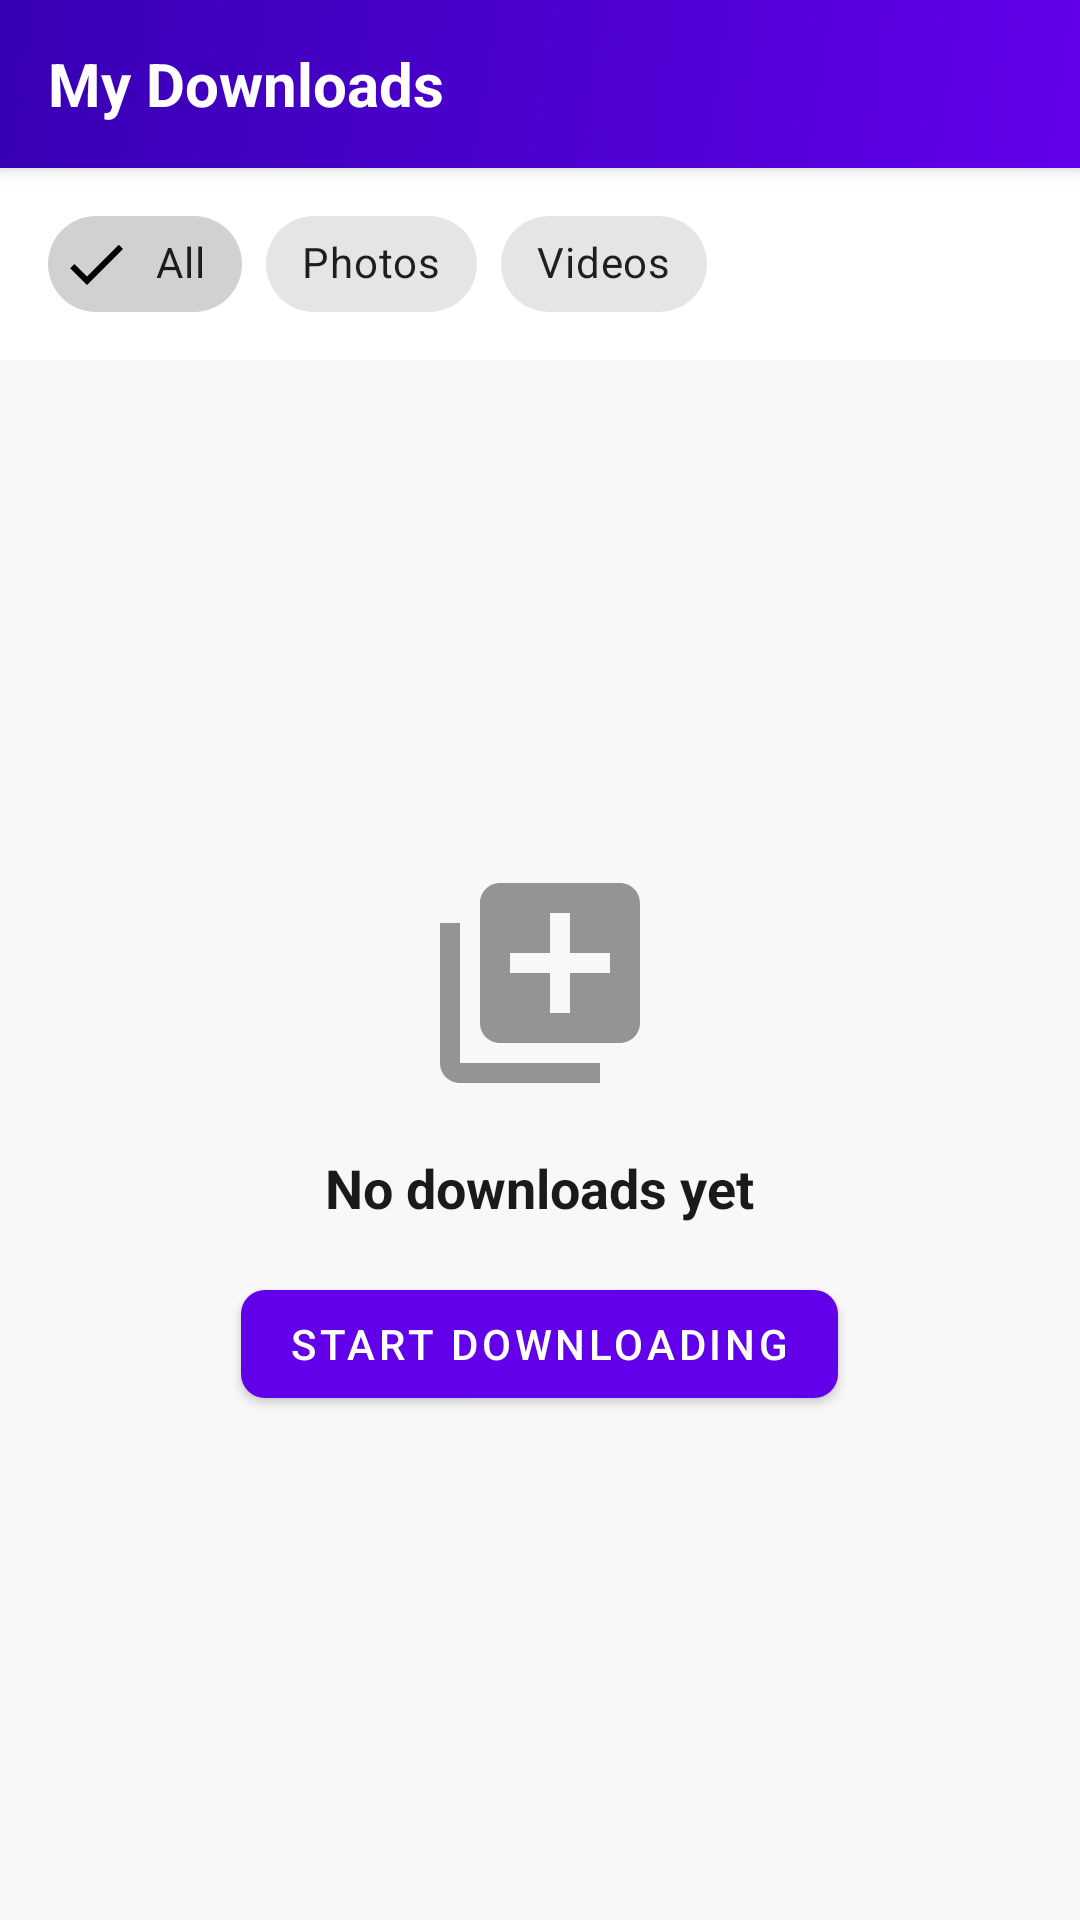

Locate icon controls on the screen. Image size 1080 × 1920, boxes as (x1, y1, x2, y2).
library: (440, 883, 640, 1083)
